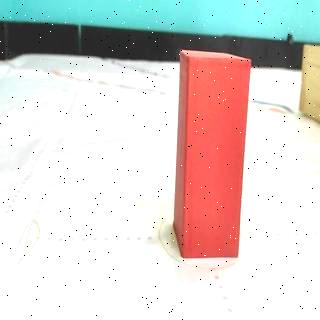redbox: (174, 52, 250, 257)
